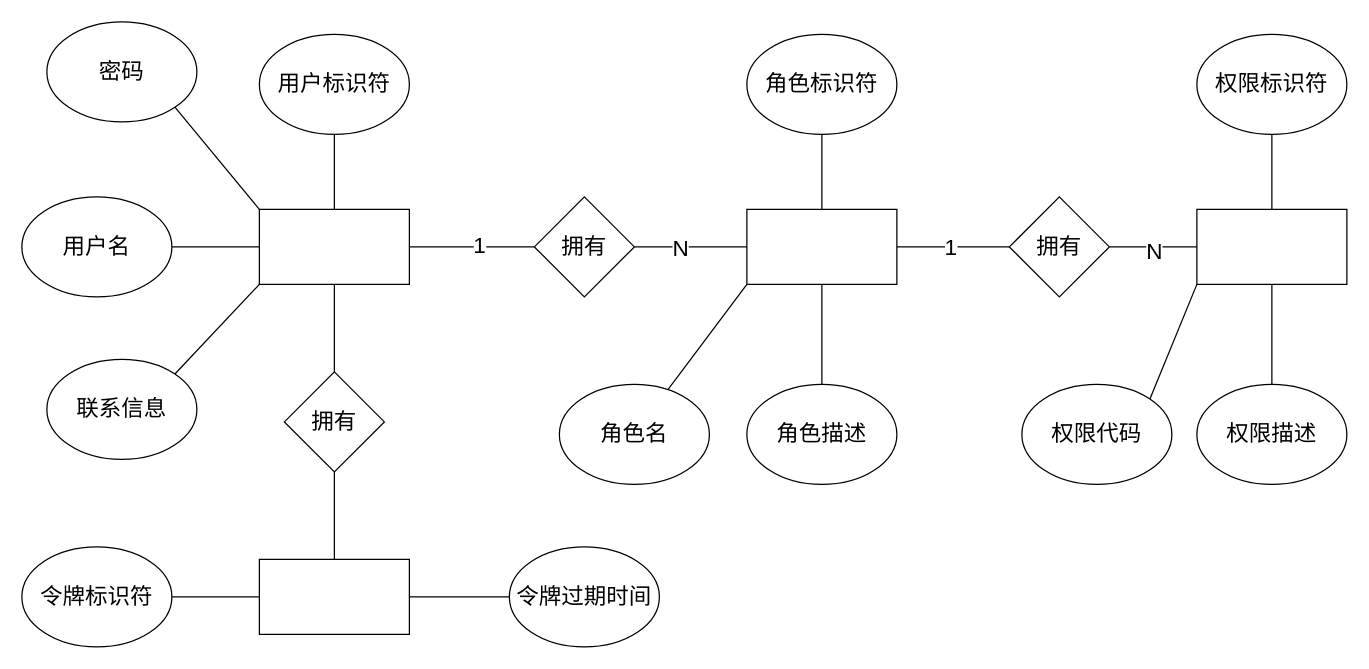
The diagram is 1369 pixels wide and 669 high, and some of its shapes have lost their labels. Here are the shapes that lost their labels. From the top down, the centre of each, then its label:
the point at 333,246: 用户
the point at 821,246: 角色
the point at 1271,246: 权限
the point at 333,596: 令牌
